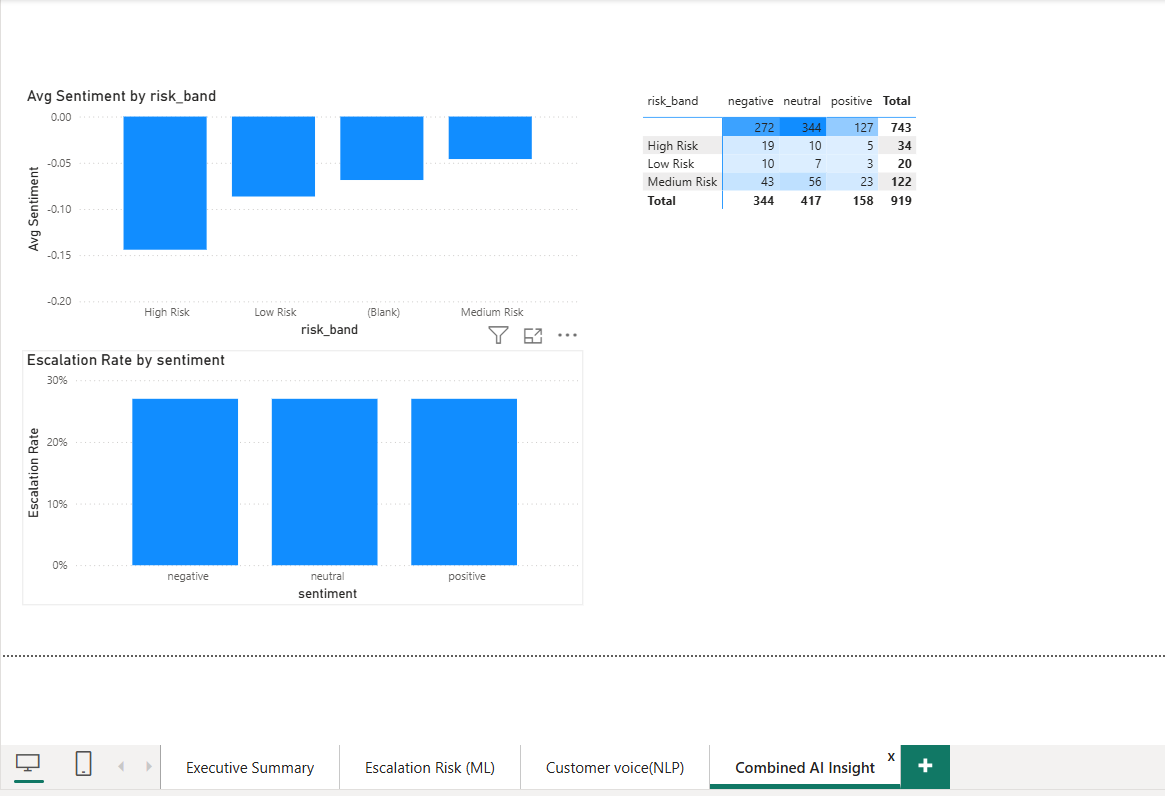

This screenshot's page, from the dashboard's own definition file:
{"tool":"powerbi","page":{"name":"Combined AI Insight","canvas":[1280,720],"ordinal":3},"visuals":[{"type":"clusteredColumnChart","fields":{"Category":["meridian_ml_output.risk_band"],"Y":["meridian_nlp_output.Avg Sentiment"]},"box":[23.3,96.1,616.1,279.9],"z":0},{"type":"pivotTable","fields":{"Rows":["meridian_ml_output.risk_band"],"Columns":["meridian_nlp_output.sentiment"],"Values":["meridian_nlp_output.Total Tickets"]},"box":[699.8,96.1,406.2,279.9],"z":1000},{"type":"clusteredColumnChart","fields":{"Category":["meridian_nlp_output.sentiment"],"Y":["meridian_ml_output.Escalation Rate"]},"box":[23,386,616,280],"z":2000}]}

Visuals, with their boxes on the page's 1280x720 design canvas (x1, y1, x2, y2). These are canvas units, not pixel positions in the 1165x796 screenshot, which may show the page scaled, cropped or inside an application window:
clusteredColumnChart - meridian_ml_output.risk_band x meridian_nlp_output.Avg Sentiment: x1=23, y1=96, x2=639, y2=376
pivotTable - meridian_ml_output.risk_band x meridian_nlp_output.sentiment: x1=700, y1=96, x2=1106, y2=376
clusteredColumnChart - meridian_nlp_output.sentiment x meridian_ml_output.Escalation Rate: x1=23, y1=386, x2=639, y2=666
